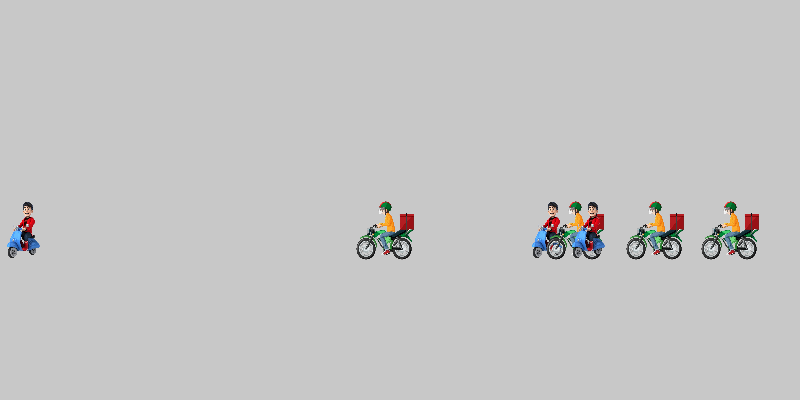helmet: (355, 200, 415, 260), (545, 200, 605, 260), (625, 200, 685, 260), (700, 200, 760, 260)
no_helmet: (520, 200, 580, 260), (560, 200, 620, 260), (0, 200, 55, 260)
